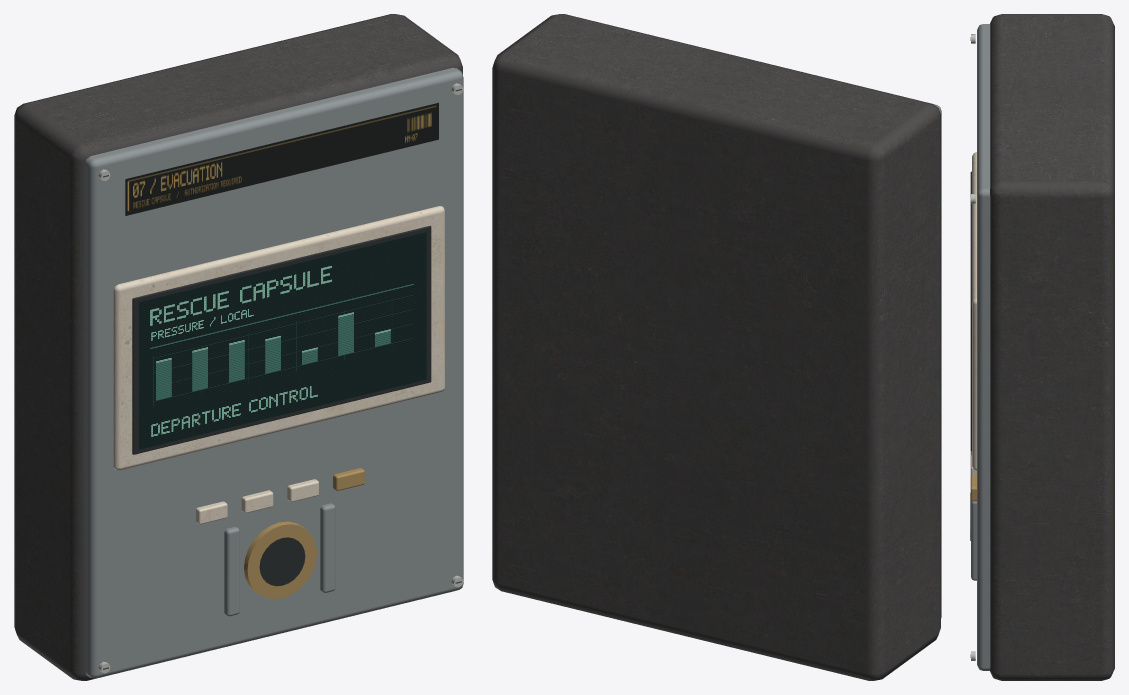
File: evac-control.glb
The picture shows the model from 3 angles, left to right: view 1: azimuth 30°, elevation 25°; view 2: azimuth 150°, elevation 25°; view 3: azimuth 270°, elevation 25°; orthographic projection. The views are drawn at different scales.
Visible parts, largest first — view 1: wall-housing; view 2: wall-housing; view 3: wall-housing.
Part boxes in pixels (bbox=[...]): wall-housing: bbox=[14, 14, 463, 680]; wall-housing: bbox=[492, 14, 941, 680]; wall-housing: bbox=[970, 14, 1114, 680].
Bounding box in the file's own units: 0.9 × 1.18 × 0.31.
8 materials, 4 textured.
